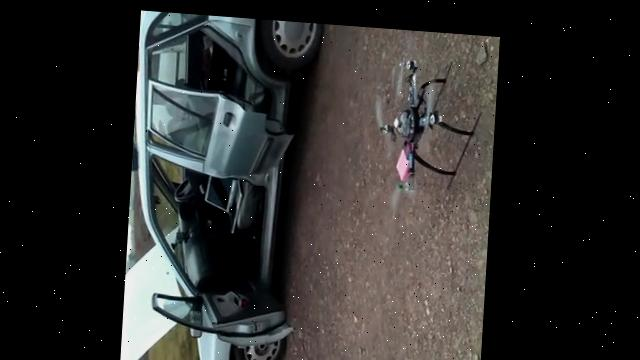drone: (366, 22, 484, 216)
